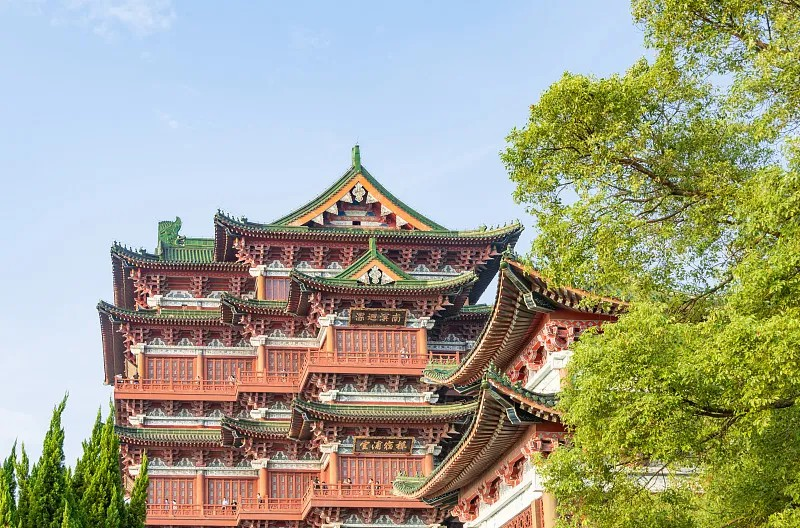Teng: (97, 146, 525, 515)
